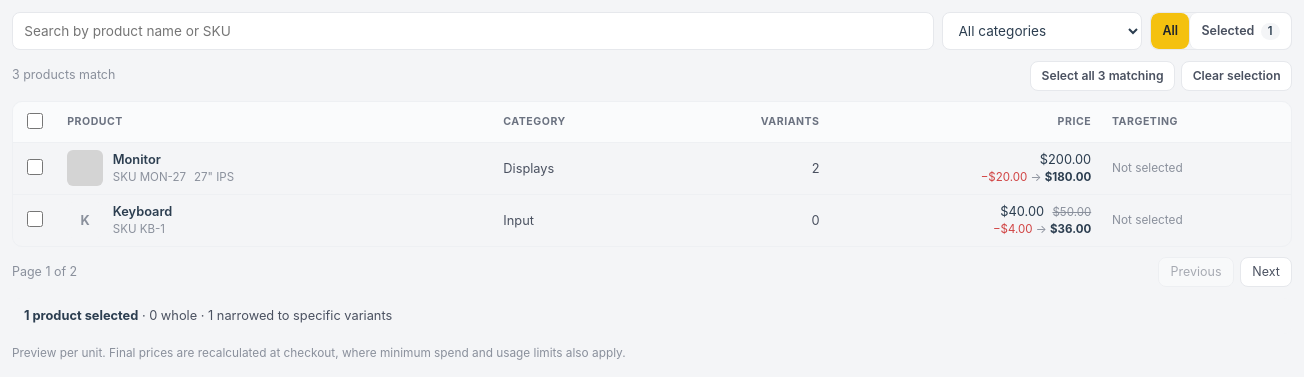
PromotionProductTargets › selects every product matching the search, across pages
This screenshot has width=1304, height=377.
Click the button "Select all 3 matching". click: coordinates (1102, 76)
box: [1030,61,1175,91]
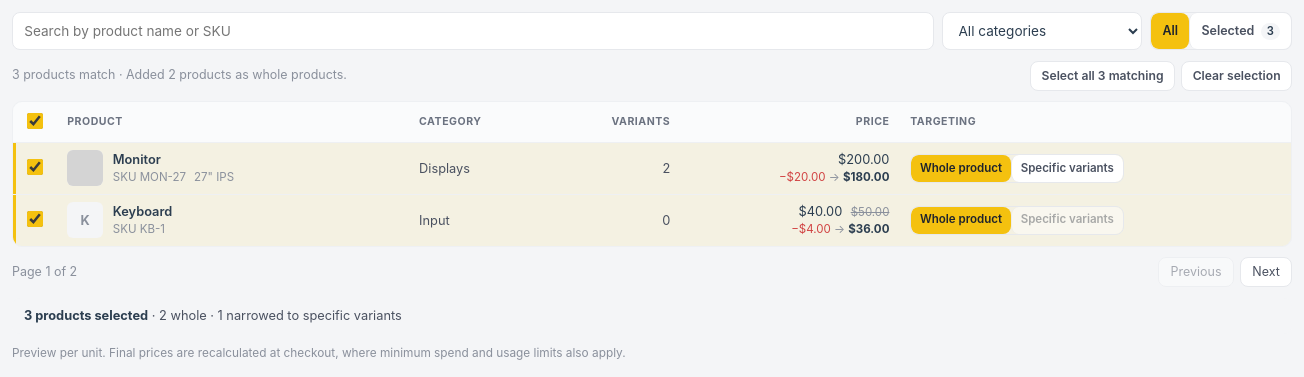
Expected: the text "Added 2 products as whole products." is shown, [115,67,347,82]
